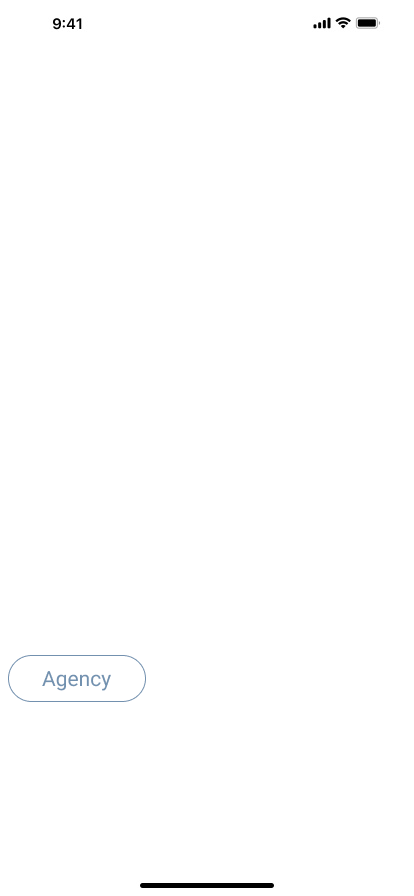Buttons: (8, 655, 154, 702)
Home Indicator: (0, 862, 414, 896)
Status Bar: (0, 0, 414, 44)
